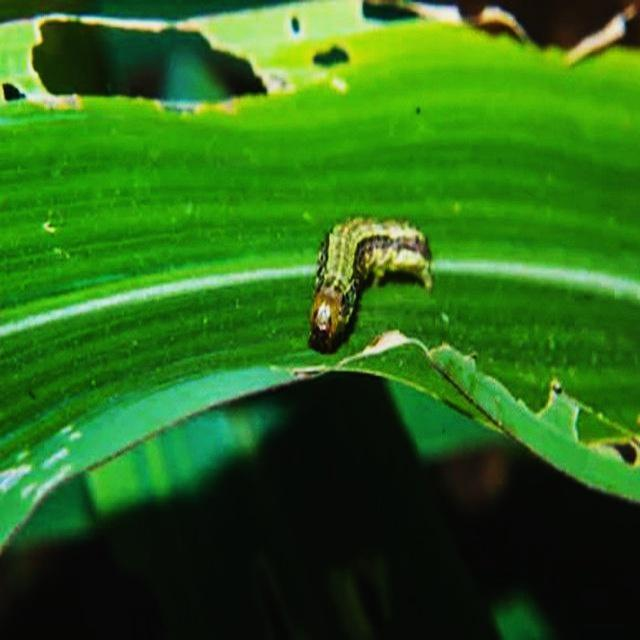gusano_cogollero: (306, 215, 432, 350)
